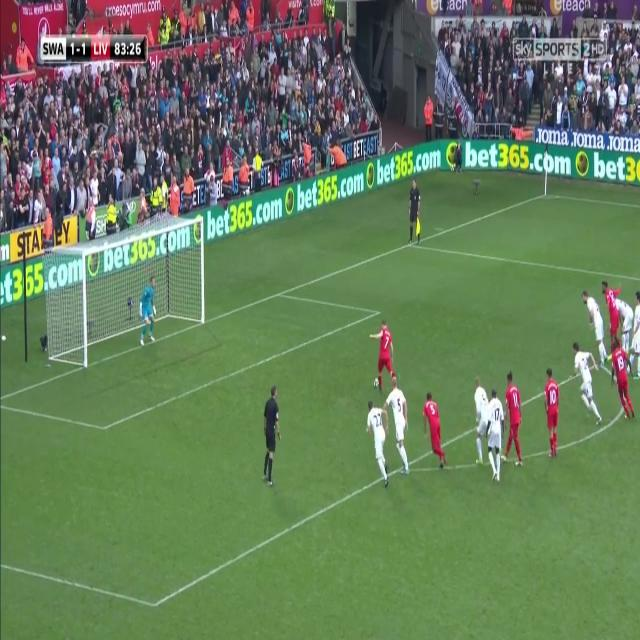Ball: (373, 374, 380, 391)
Player: (569, 338, 605, 426), (383, 376, 412, 478), (610, 341, 639, 424), (364, 396, 390, 487), (502, 370, 526, 468), (420, 392, 448, 469), (581, 288, 608, 364), (542, 366, 564, 459), (369, 318, 397, 387), (487, 389, 505, 486), (601, 277, 622, 348), (474, 374, 490, 466), (614, 297, 634, 348), (632, 291, 640, 374)
Referee: (260, 382, 284, 489), (138, 274, 158, 351), (406, 178, 422, 251)
